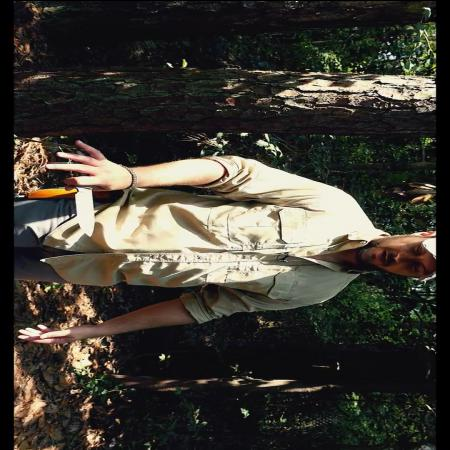long weapon: (42, 150, 107, 240)
